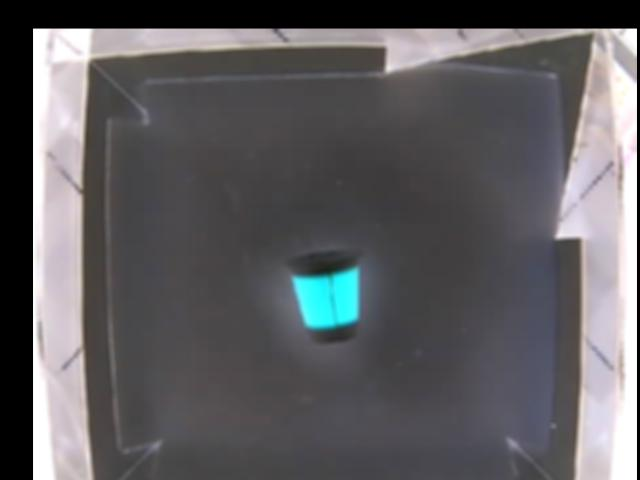Cup: (286, 248, 366, 344)
